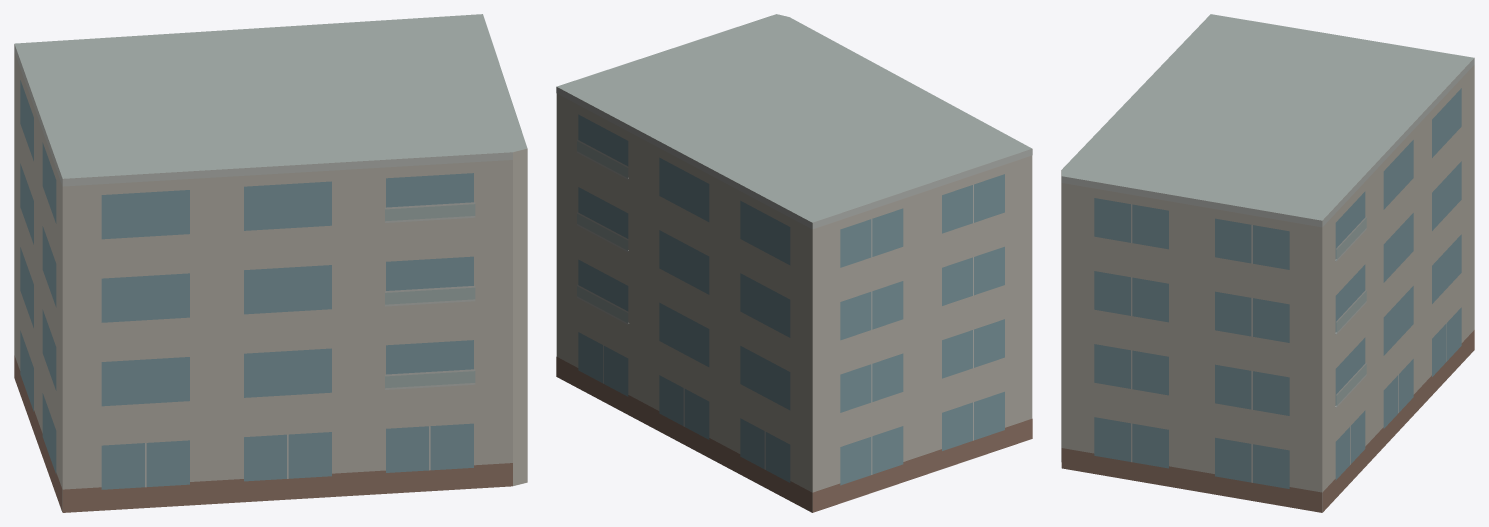
Rendered from survey-upis-32817300.glb.
The picture shows the model from 3 angles, left to right: view 1: azimuth 30°, elevation 25°; view 2: azimuth 150°, elevation 25°; view 3: azimuth 270°, elevation 25°; orthographic projection. The views are drawn at different scales.
Visible parts, largest first — view 1: survey-upis-32817300.tmp; view 2: survey-upis-32817300.tmp; view 3: survey-upis-32817300.tmp.
Part boxes in pixels (<box>): survey-upis-32817300.tmp: <box>14,14,527,512</box>; survey-upis-32817300.tmp: <box>556,14,1032,512</box>; survey-upis-32817300.tmp: <box>1061,14,1474,512</box>.
Bounding box in the file's own units: 16.09 × 10.6 × 13.59.
